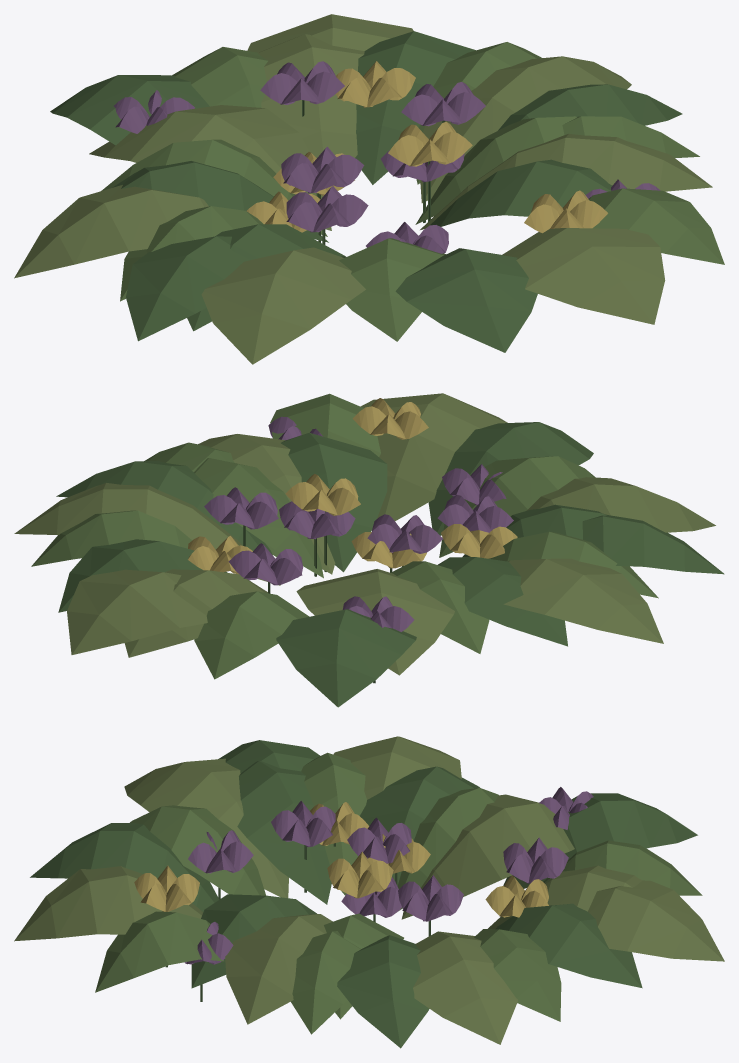
The model's file is flower_groundcover_mat.glb.
3 views of the same model, one above another, from view 1: azimuth 30°, elevation 25°; view 2: azimuth 150°, elevation 25°; view 3: azimuth 270°, elevation 25° (orthographic). The views are drawn at different scales.
Parts seen in each view (by area): view 1: flower_groundcover_mat; view 2: flower_groundcover_mat; view 3: flower_groundcover_mat.
Boxes of the visible parts, x1,y1,x2,y2 form: flower_groundcover_mat: (14,14,724,364); flower_groundcover_mat: (14,393,724,707); flower_groundcover_mat: (14,736,724,1048).
Size of the model in its own units: 0.9964 by 0.14 by 0.9891.
